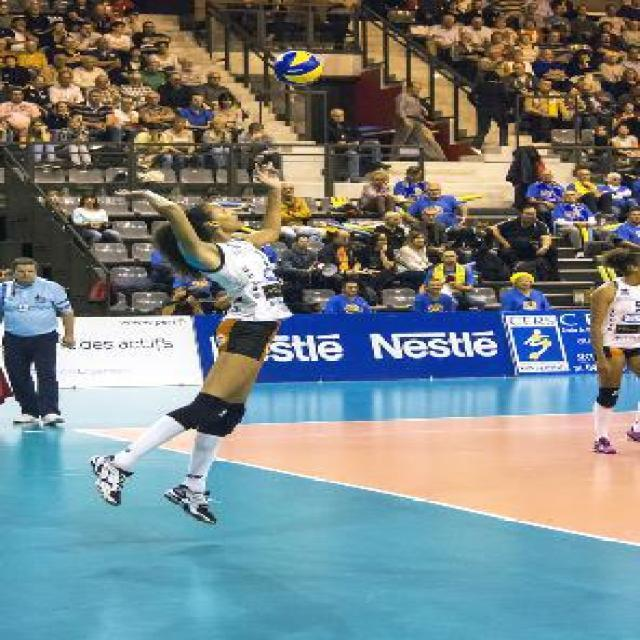volleyball: (274, 51, 323, 88)
